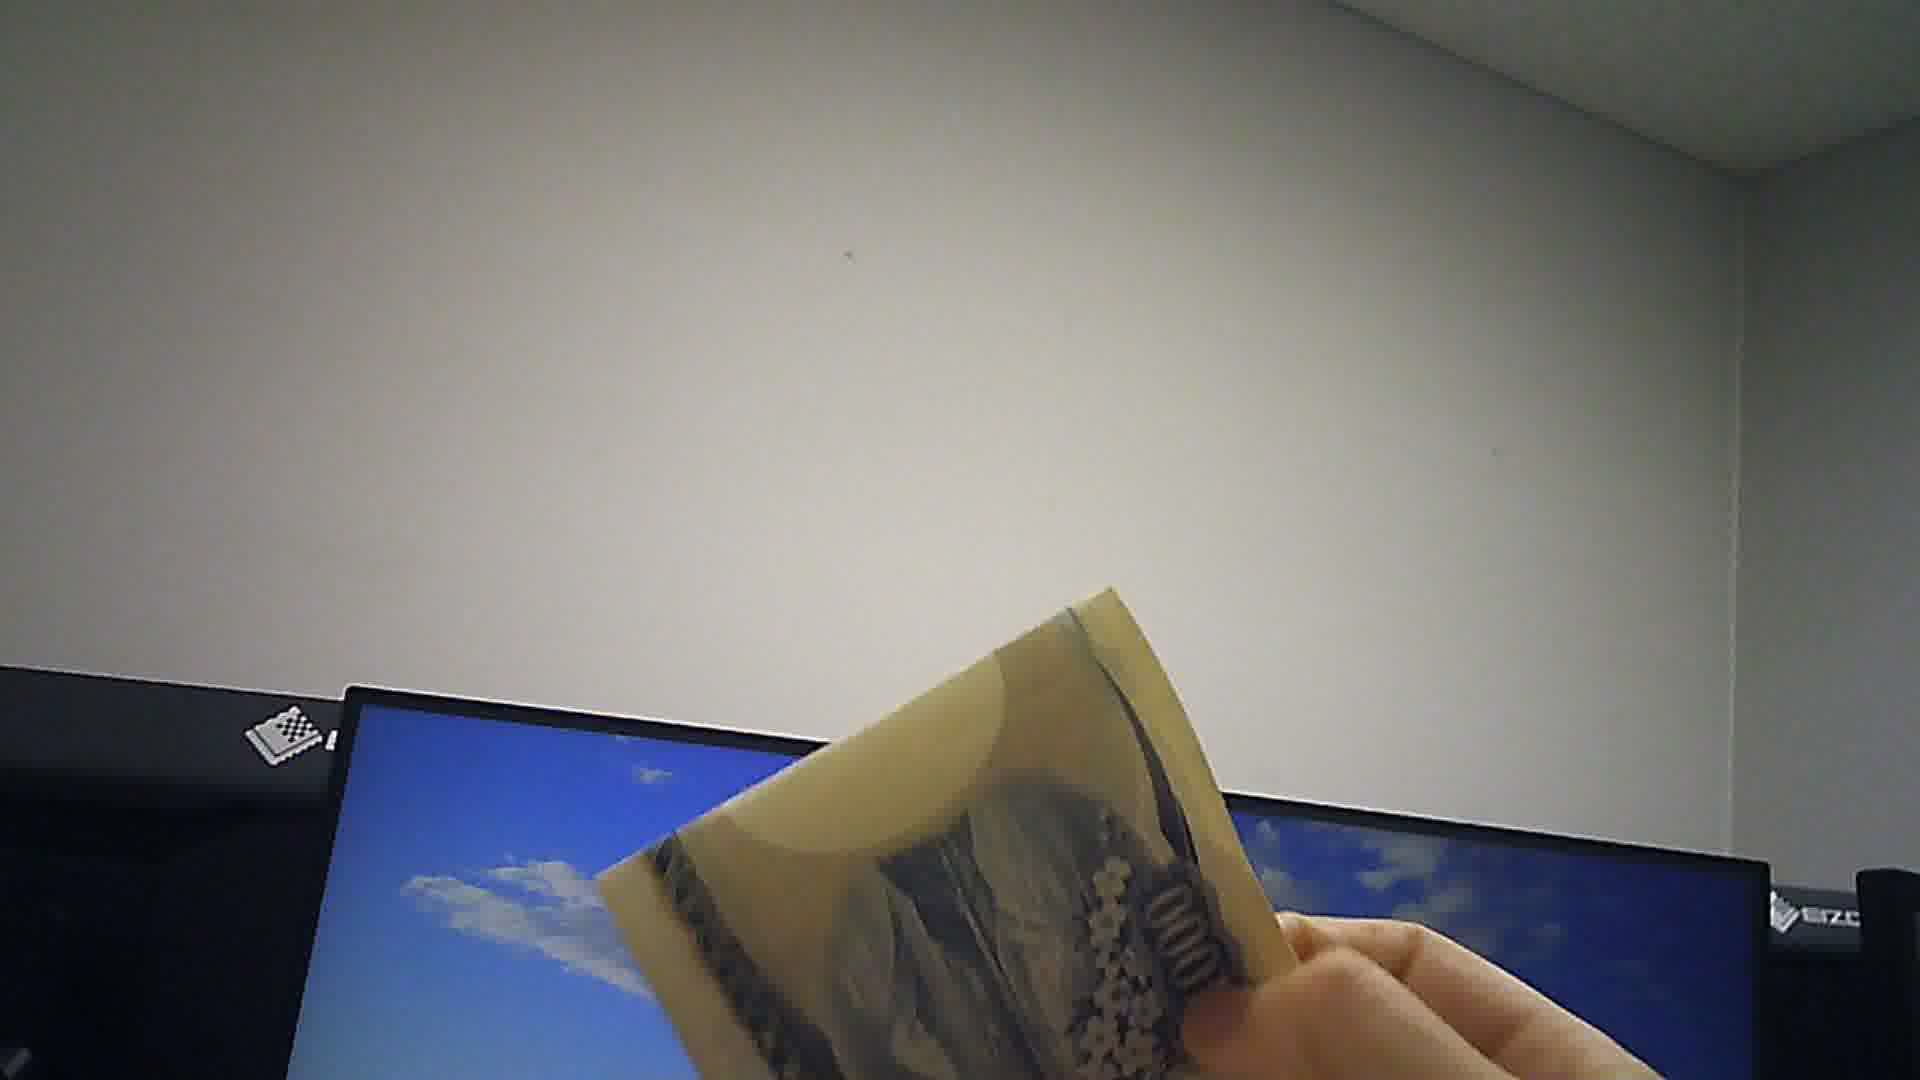1,000 Yen: (585, 574, 1280, 1079)
